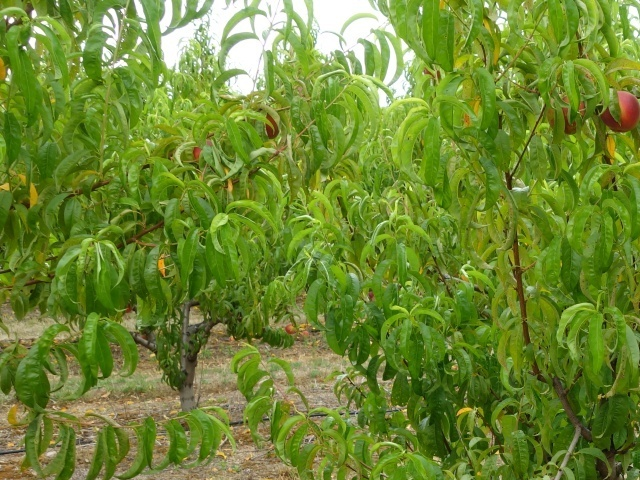peach: (545, 92, 592, 138), (597, 86, 639, 136), (259, 107, 286, 145)
